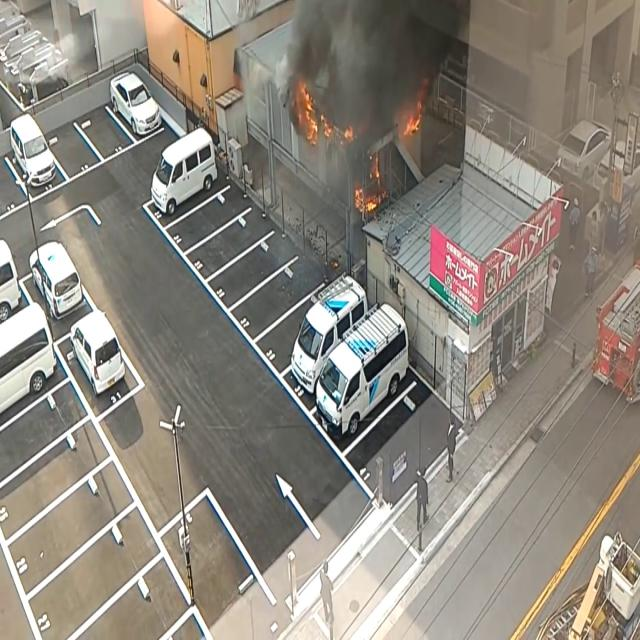Fire: (289, 74, 322, 144), (352, 164, 382, 218)
Smoke: (282, 0, 466, 182)
